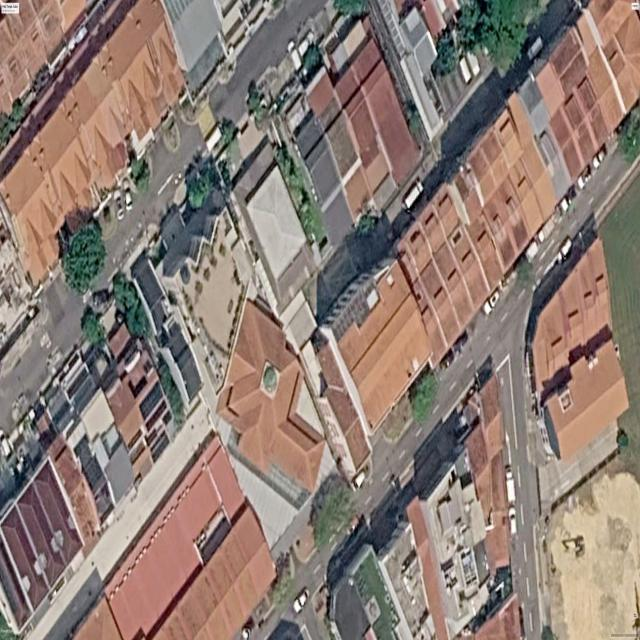Home: (0, 0, 183, 283), (532, 237, 629, 462), (309, 35, 420, 223), (399, 185, 503, 364), (455, 93, 555, 273), (535, 11, 632, 182), (154, 507, 275, 640), (337, 261, 431, 429), (466, 375, 509, 573), (591, 0, 640, 112)
mosque: (217, 300, 325, 492)
